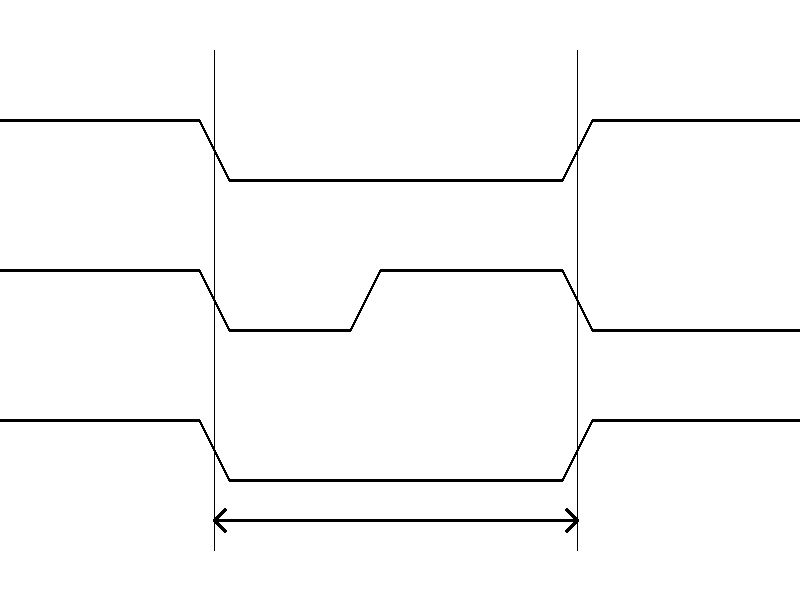double_arrow: (214, 505, 577, 535)
